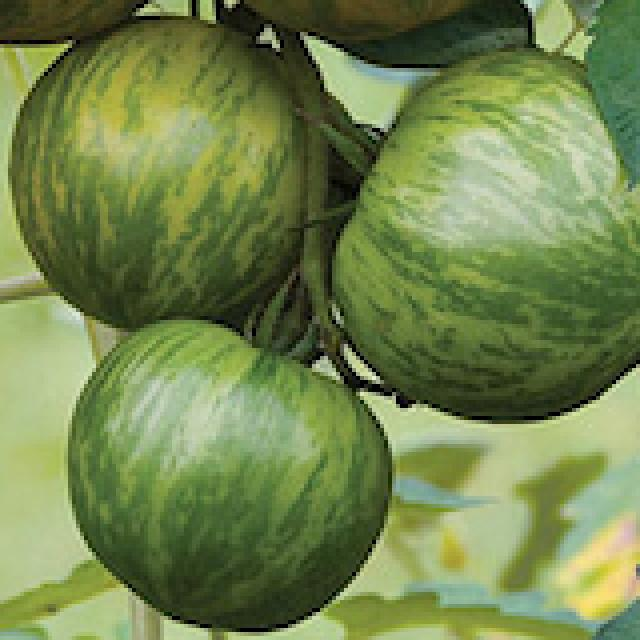sari: (16, 0, 629, 629)
yesil: (15, 2, 632, 638)
